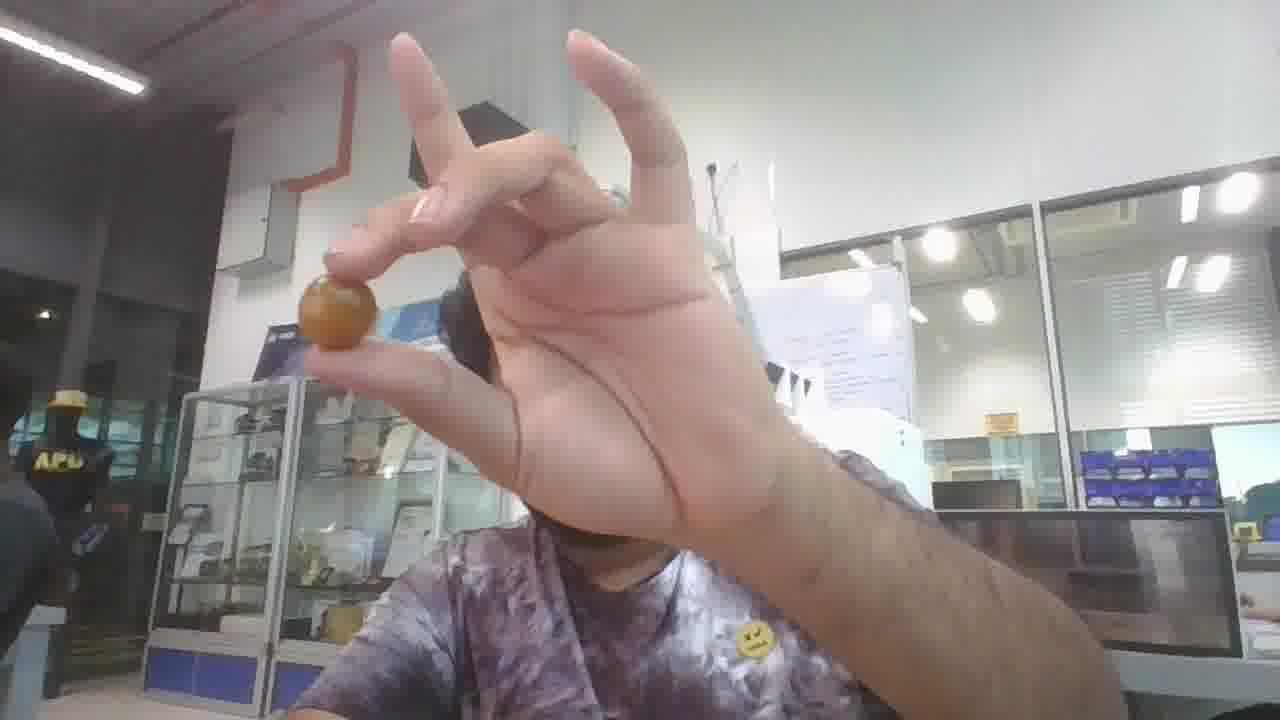yellow_cherry_tomato: (299, 275, 377, 349)
